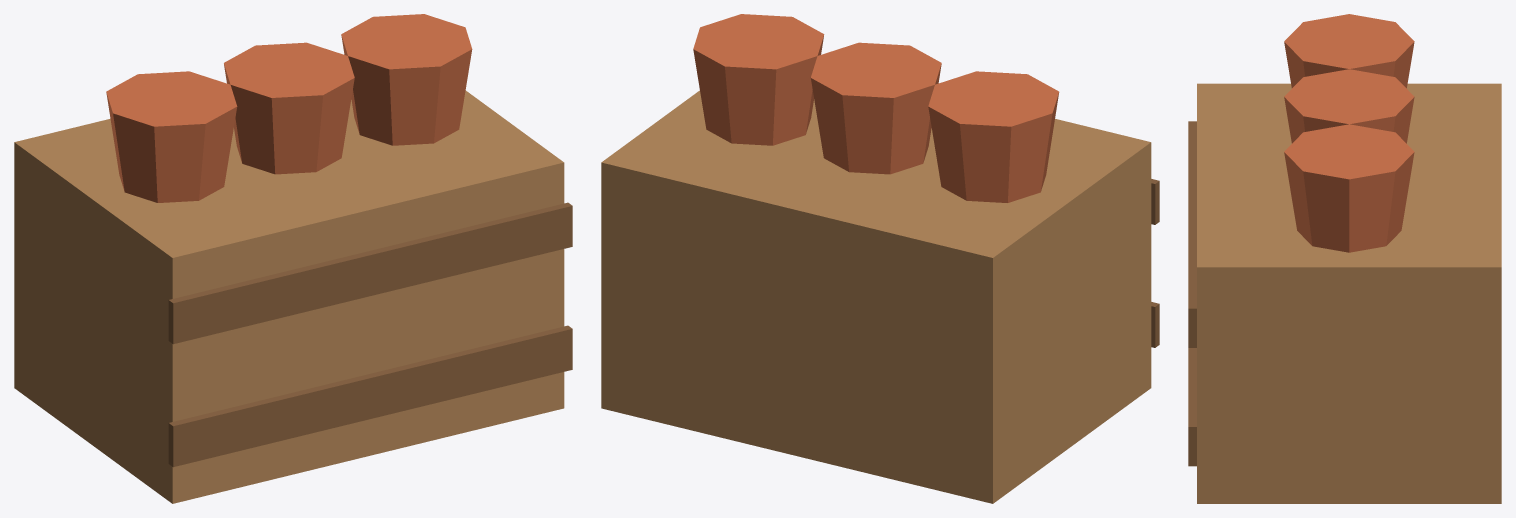
File: pot_crate.glb
3 views of the same model, side by side, from view 1: azimuth 30°, elevation 25°; view 2: azimuth 150°, elevation 25°; view 3: azimuth 270°, elevation 25° (orthographic). The views are drawn at different scales.
Parts seen in each view (by area): view 1: pot_crate; view 2: pot_crate; view 3: pot_crate.
Boxes of the visible parts, bbox=[...] form: pot_crate: bbox=[14, 14, 572, 503]; pot_crate: bbox=[601, 14, 1159, 503]; pot_crate: bbox=[1188, 14, 1501, 503].
Bounding box in the file's own units: 1.02 × 0.8 × 0.72.
